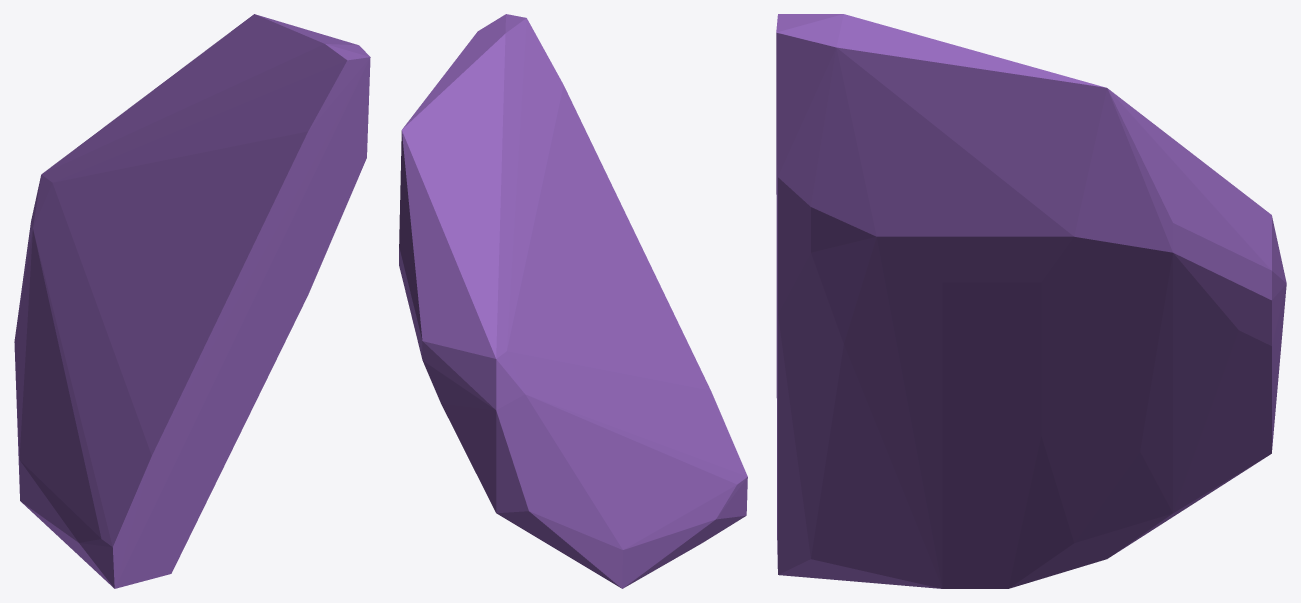
The model's file is mouth_cup014.obj.
3 views of the same model, side by side, from view 1: azimuth 30°, elevation 25°; view 2: azimuth 150°, elevation 25°; view 3: azimuth 270°, elevation 25° (orthographic). The views are drawn at different scales.
Parts seen in each view (by area): view 1: mouth_cup014_mouth_cup014.001; view 2: mouth_cup014_mouth_cup014.001; view 3: mouth_cup014_mouth_cup014.001.
Part boxes in pixels (x1,y1,x2,y2): mouth_cup014_mouth_cup014.001: [14, 14, 370, 588]; mouth_cup014_mouth_cup014.001: [399, 14, 747, 588]; mouth_cup014_mouth_cup014.001: [776, 14, 1286, 588].
Bounding box in the file's own units: 0.1287 × 0.2214 × 0.1464.
